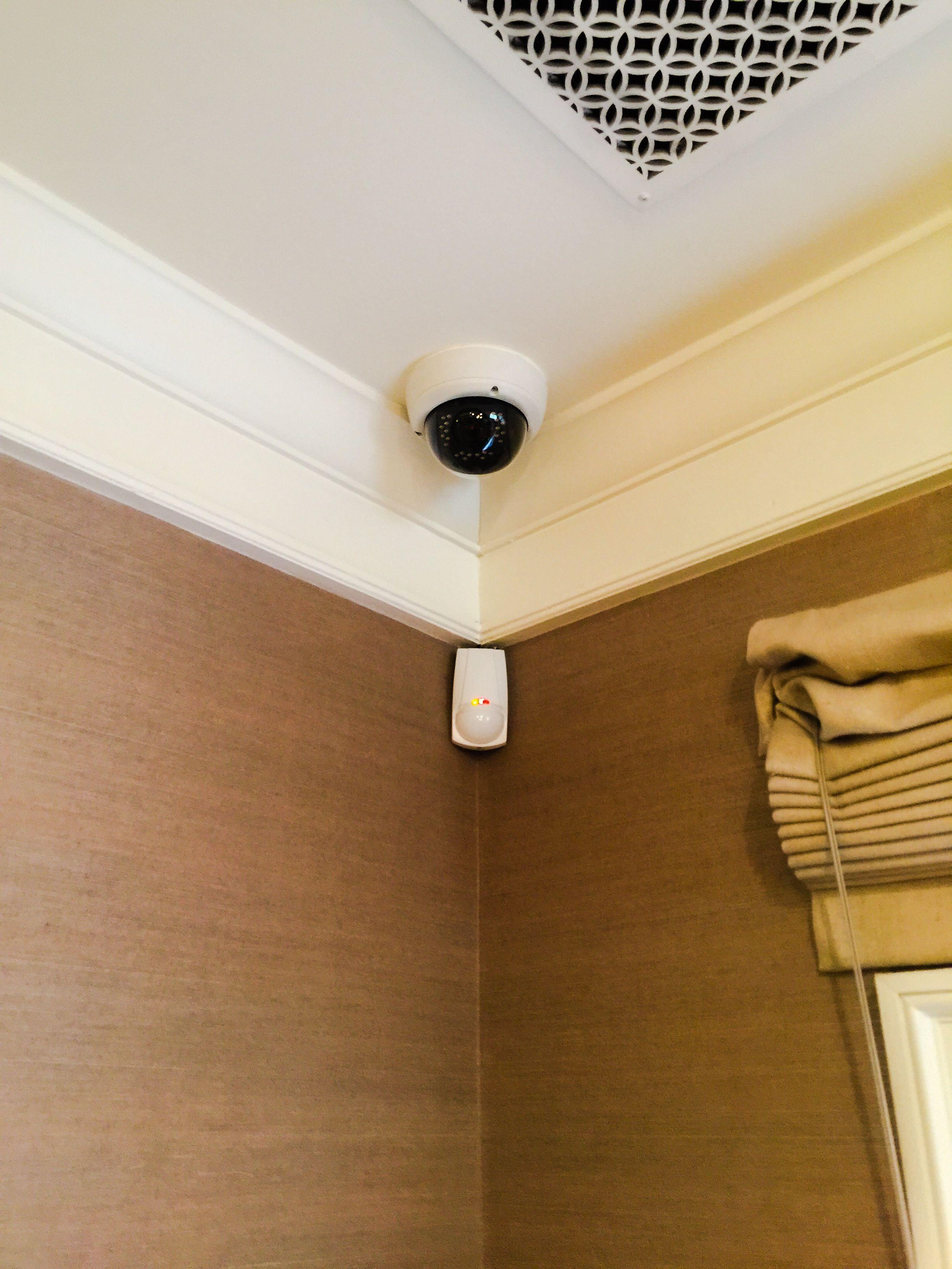CCTV: (405, 344, 547, 475)
